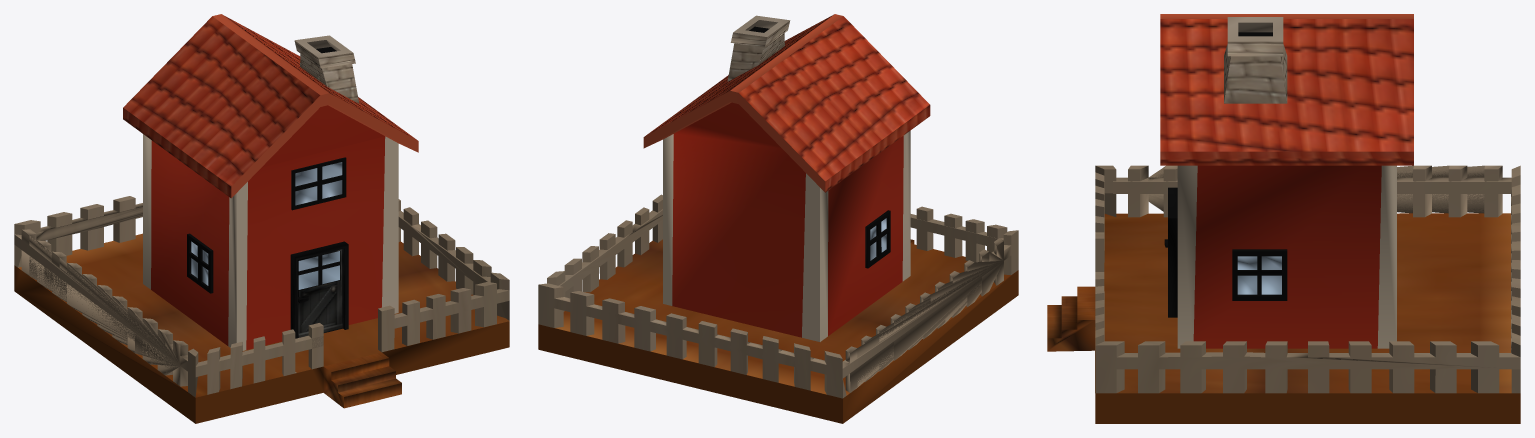
File: müstakil ev.fbx
The picture shows the model from 3 angles, left to right: view 1: azimuth 30°, elevation 25°; view 2: azimuth 150°, elevation 25°; view 3: azimuth 270°, elevation 25°; orthographic projection. The views are drawn at different scales.
Parts seen in each view (by area): view 1: Cube.003; view 2: Cube.003; view 3: Cube.003.
Boxes of the visible parts, x1,y1,x2,y2 form: Cube.003: (14,14,509,423); Cube.003: (538,14,1018,423); Cube.003: (1047,14,1520,423).
Bounding box in the file's own units: 1011 × 867 × 1124.
Materials: 1 (1 with a texture image).
